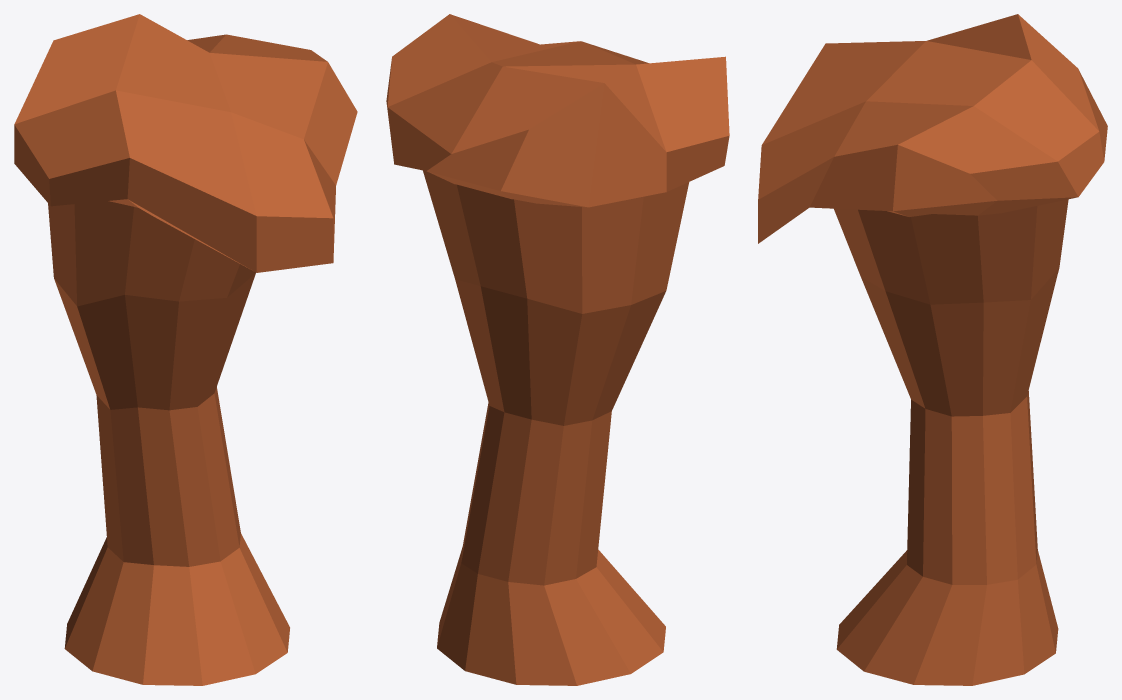
Rendered from Rock2.fbx.
3 views of the same model, side by side, from view 1: azimuth 30°, elevation 25°; view 2: azimuth 150°, elevation 25°; view 3: azimuth 270°, elevation 25° (orthographic). The views are drawn at different scales.
Parts seen in each view (by area): view 1: Rock2; view 2: Rock2; view 3: Rock2.
Boxes of the visible parts, x1,y1,x2,y2 form: Rock2: (14,14,357,685); Rock2: (386,14,729,685); Rock2: (758,14,1107,685).
Bounding box in the file's own units: 3.52 × 6.55 × 3.56.
